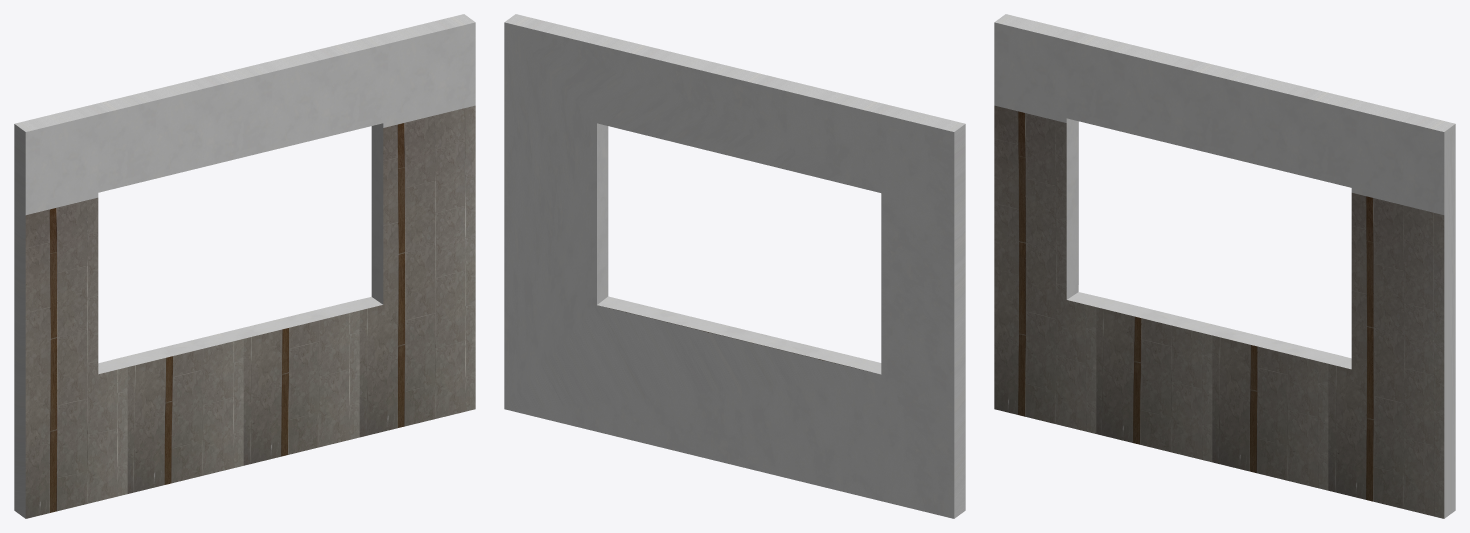
File: KitchenBackWall.fbx
3 renders of one model, left to right at view 1: azimuth 30°, elevation 25°; view 2: azimuth 150°, elevation 25°; view 3: azimuth 330°, elevation 25°, orthographic.
Visible parts, largest first — view 1: Kitchen_BackWall; view 2: Kitchen_BackWall; view 3: Kitchen_BackWall.
Part boxes in pixels (x1=…): Kitchen_BackWall: x1=14, y1=14, x2=475, y2=518; Kitchen_BackWall: x1=504, y1=14, x2=965, y2=518; Kitchen_BackWall: x1=994, y1=14, x2=1455, y2=518.
Bounding box in the file's own units: 453 × 372 × 20.
2 materials, 2 textured.
